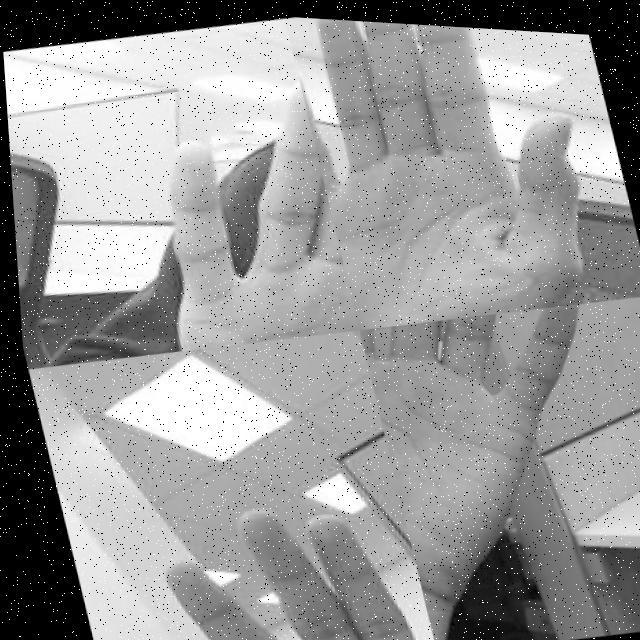no-gloves: (284, 13, 618, 337), (353, 285, 640, 598), (88, 44, 356, 362), (76, 471, 428, 640)
